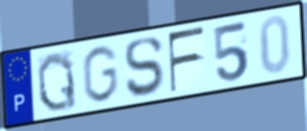0: (257, 13, 293, 78)
5: (211, 18, 251, 84)
F: (166, 24, 207, 95)
G: (80, 44, 119, 105)
Q: (35, 50, 79, 114)
S: (123, 34, 165, 100)
